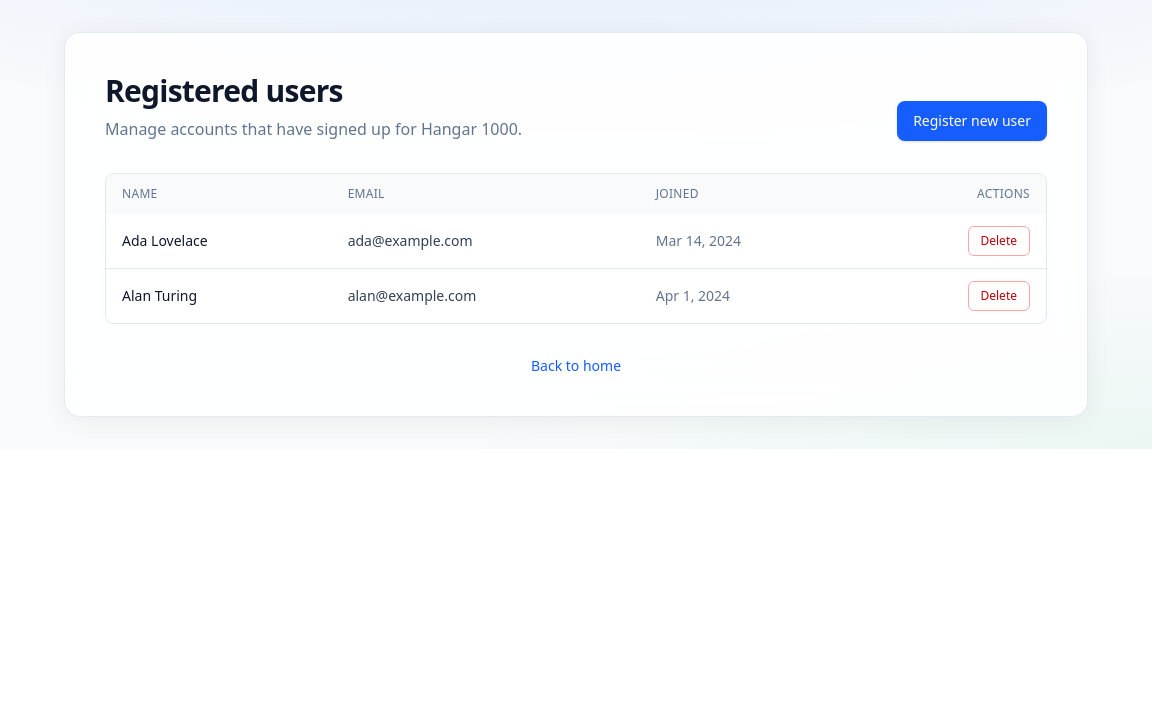
Test: UserListPage › shows an inline error when delete fails
The image size is (1152, 720).
What coordinates should you click on to do the following:
click the button "Delete" in the row of "Lovelace"
I would click on:
 (999, 241)
Its box is [968, 226, 1030, 256].
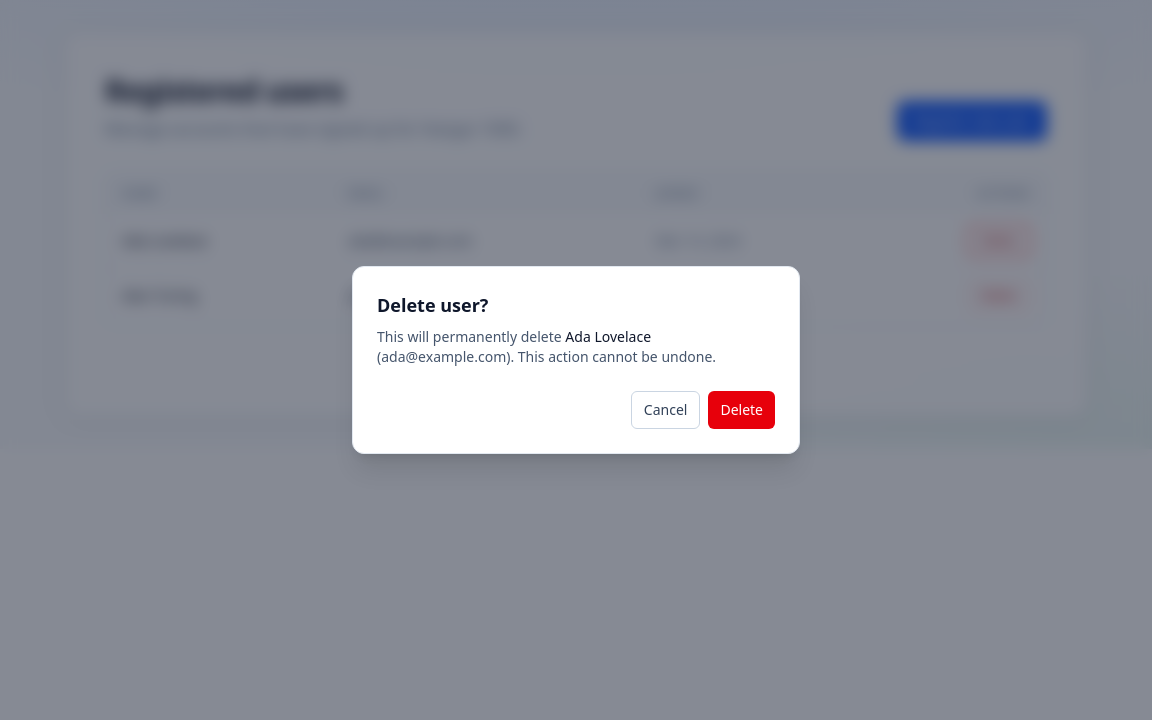
What coordinates should you click on to do the following:
click the button "Delete"
I would click on:
 (742, 410)
Its box is [708, 391, 775, 429].
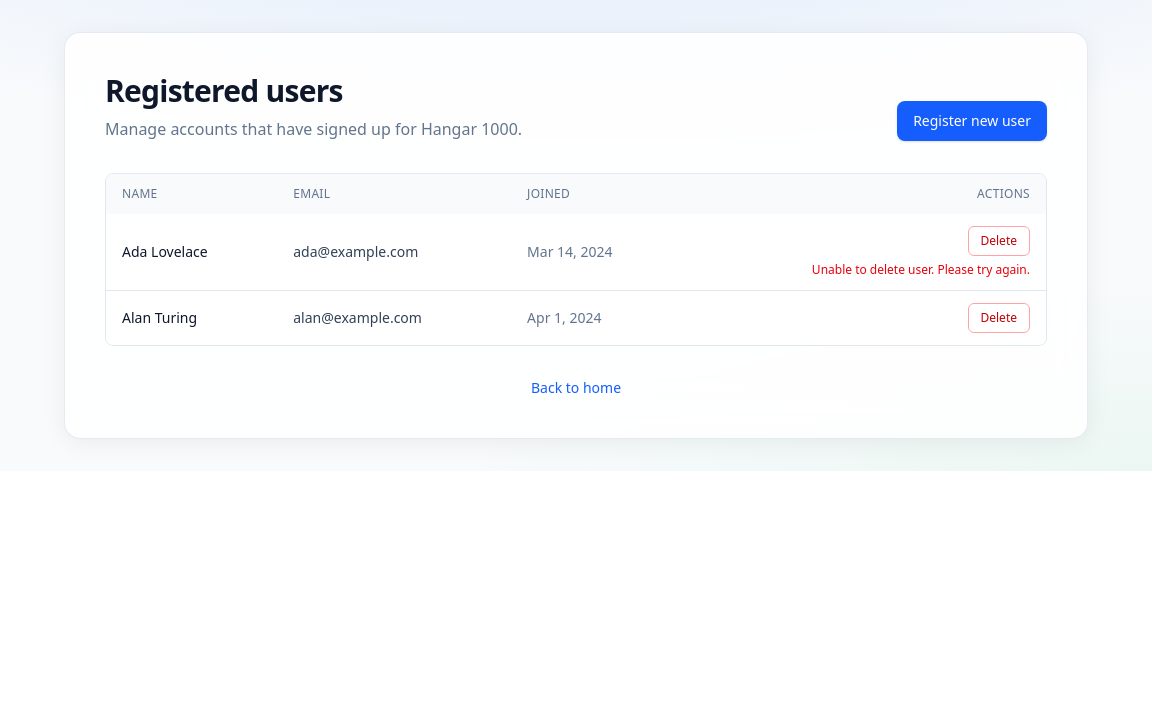
Expected: the text "Ada Lovelace" is shown, [106, 214, 277, 290]
Result: the text "Unable to delete user. Please try again." is shown at [812, 261, 1030, 278]
